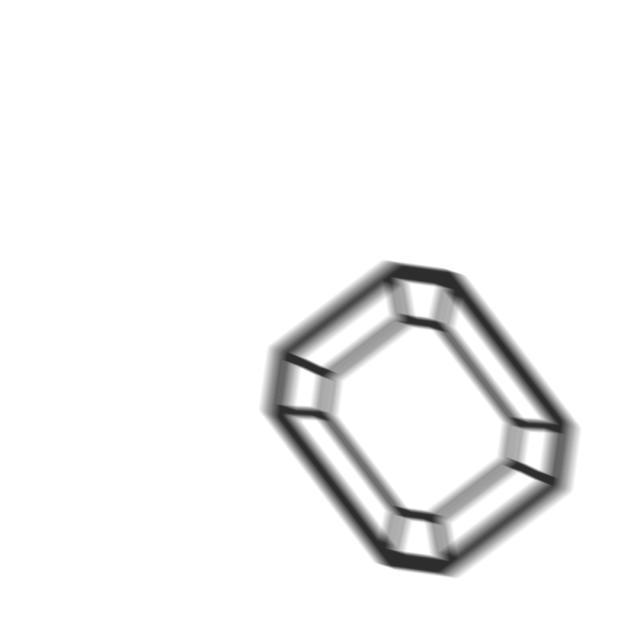emerald: (253, 260, 588, 583)
